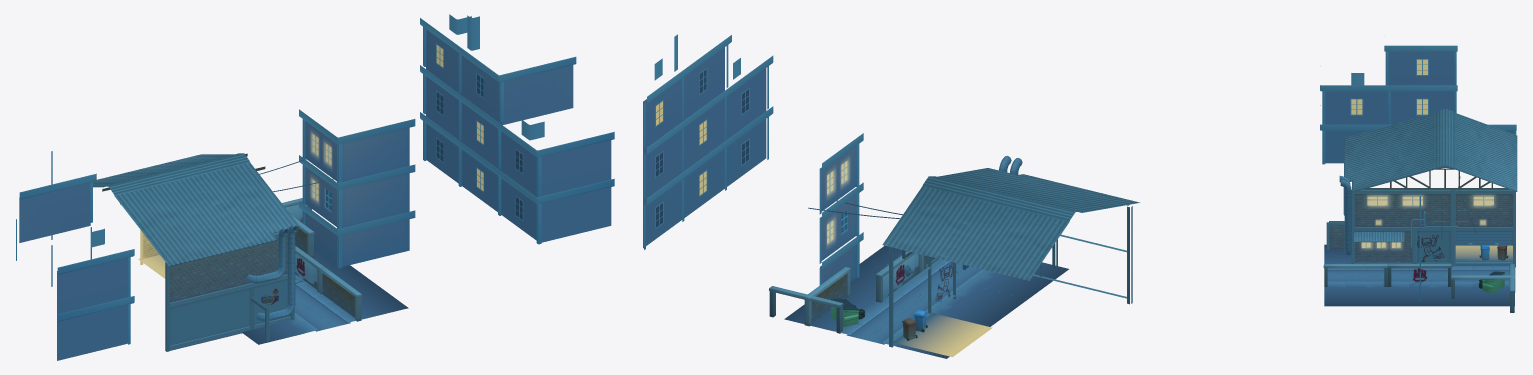
File: IndustrialWarehouse03.prefab.glb
The picture shows the model from 3 angles, left to right: view 1: azimuth 30°, elevation 25°; view 2: azimuth 150°, elevation 25°; view 3: azimuth 270°, elevation 25°; orthographic projection. The views are drawn at different scales.
Parts seen in each view (by area): view 1: FarBackBuilding03, Warehouse03, BackgroundBuilding01, IndustrialWarehouse03, BrickWall, Road02, PlasteredWall02, BrickWall (3); view 2: Warehouse03, FarBackBuilding03, BackgroundBuilding01, Road02, IndustrialWarehouse03, Road02 (1), BrickWall (3), PlasteredWall02, PlasteredWall02 (1); view 3: Warehouse03, FarBackBuilding03, IndustrialWarehouse03, Road02, Road02 (1), PlasteredWall02, BrickWall, BrickWall (3), DumpsterGreen, LightGlowPlane (2), LightGlowPlane, LightGlowPlane (1) (+4 smaller).
Part boxes in pixels (box(x1,y1,x2,y2)): FarBackBuilding03: box(16, 14, 614, 360); Warehouse03: box(93, 153, 303, 351); BackgroundBuilding01: box(299, 109, 415, 268); IndustrialWarehouse03: box(242, 280, 408, 344); BrickWall: box(319, 266, 362, 321); Road02: box(295, 255, 370, 299); PlasteredWall02: box(295, 246, 323, 292); BrickWall (3): box(291, 215, 314, 257); Warehouse03: box(882, 155, 1139, 356); FarBackBuilding03: box(643, 34, 773, 249); BackgroundBuilding01: box(819, 133, 863, 285); Road02: box(850, 259, 1027, 326); IndustrialWarehouse03: box(866, 245, 1068, 298); Road02 (1): box(784, 295, 949, 358); BrickWall (3): box(804, 267, 850, 326); PlasteredWall02: box(875, 251, 921, 302); PlasteredWall02 (1): box(769, 286, 843, 333); Warehouse03: box(1326, 108, 1517, 267); FarBackBuilding03: box(1320, 45, 1516, 164); IndustrialWarehouse03: box(1324, 244, 1387, 306); Road02: box(1387, 268, 1451, 306); Road02 (1): box(1451, 266, 1514, 306); PlasteredWall02: box(1387, 264, 1451, 286); BrickWall: box(1323, 264, 1387, 286); BrickWall (3): box(1451, 275, 1515, 298); DumpsterGreen: box(1482, 271, 1504, 293); LightGlowPlane (2): box(1471, 195, 1495, 207); LightGlowPlane: box(1366, 195, 1390, 207); LightGlowPlane (1): box(1401, 195, 1424, 207).
Size of the model in its own units: 76.34 by 27.96 by 28.13.
Materials: 13 (12 with a texture image).
